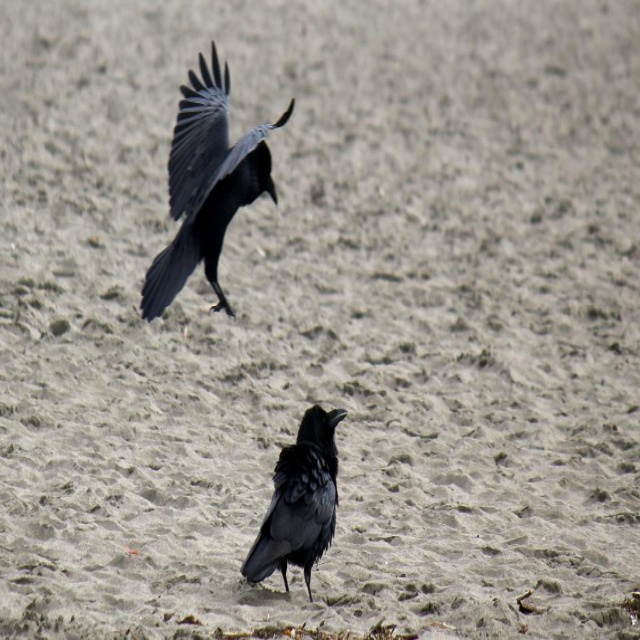Raven: (139, 40, 296, 323), (240, 404, 348, 603)
